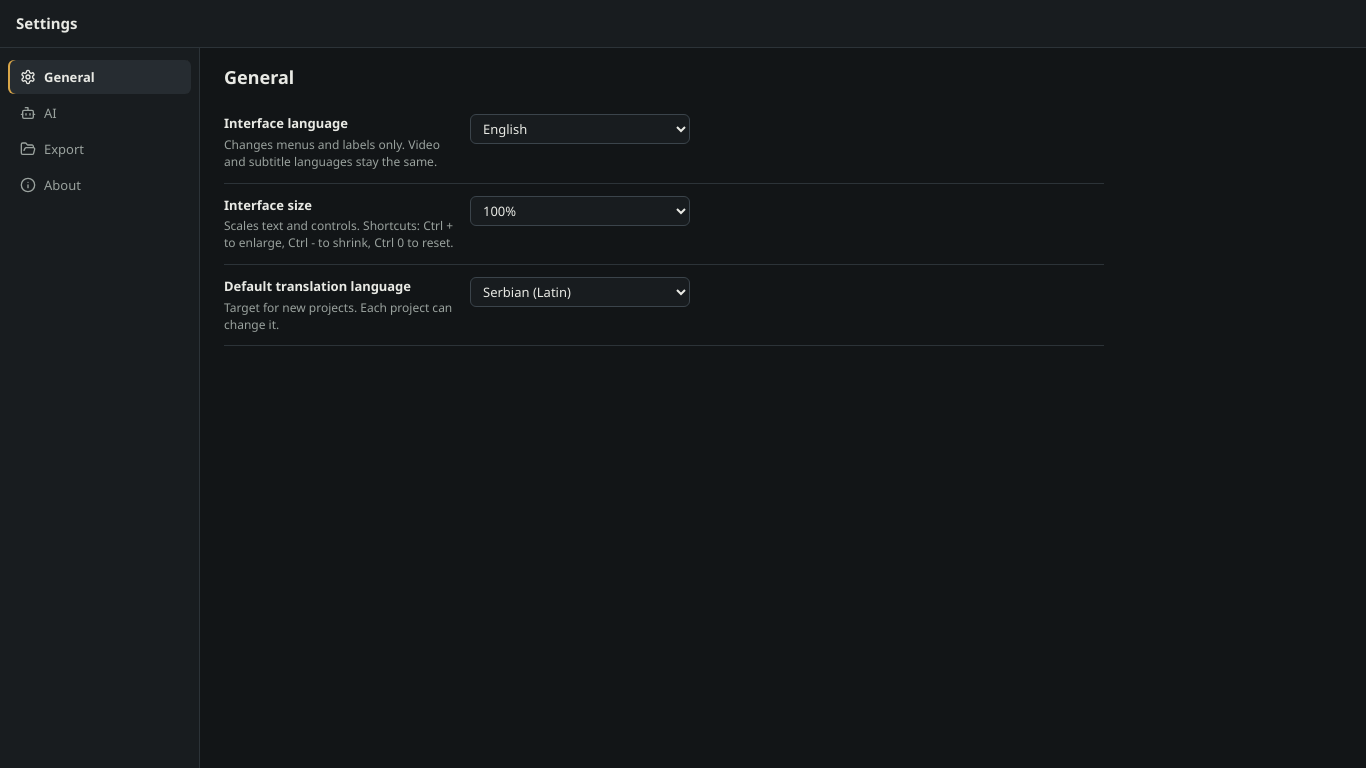
Test: SettingsPage navigation › shows one section at a time and marks the current nav item
expect the dropdown labelled "Interface language" is shown: met, box [470, 114, 690, 144]
expect the text "Default output folder" is not shown: met
Click the button "Export" at (100,149), box [8, 132, 191, 166]
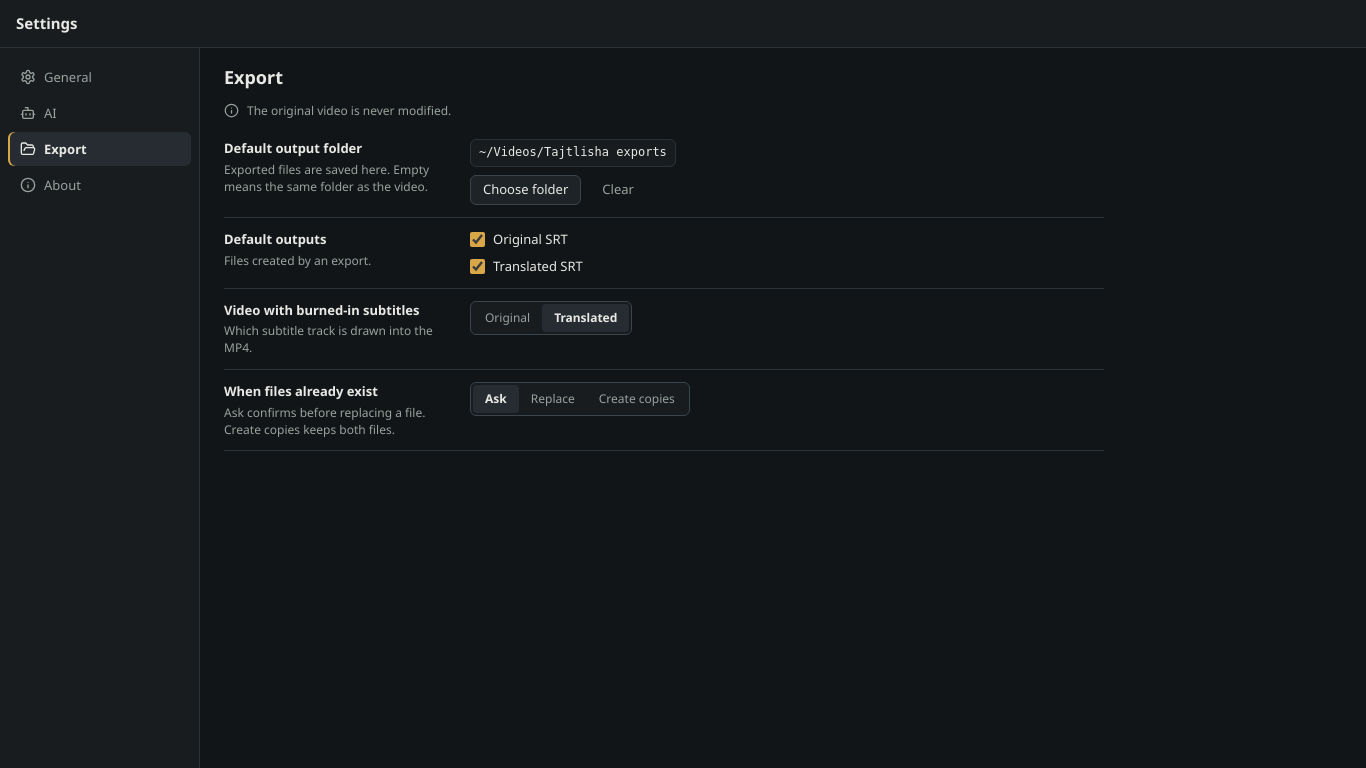
expect the heading "Export" is shown: met, box [224, 65, 283, 89]
expect the text "Default output folder" is shown: met, box [224, 140, 362, 158]
expect the label labelled "Interface language" is gone: met
